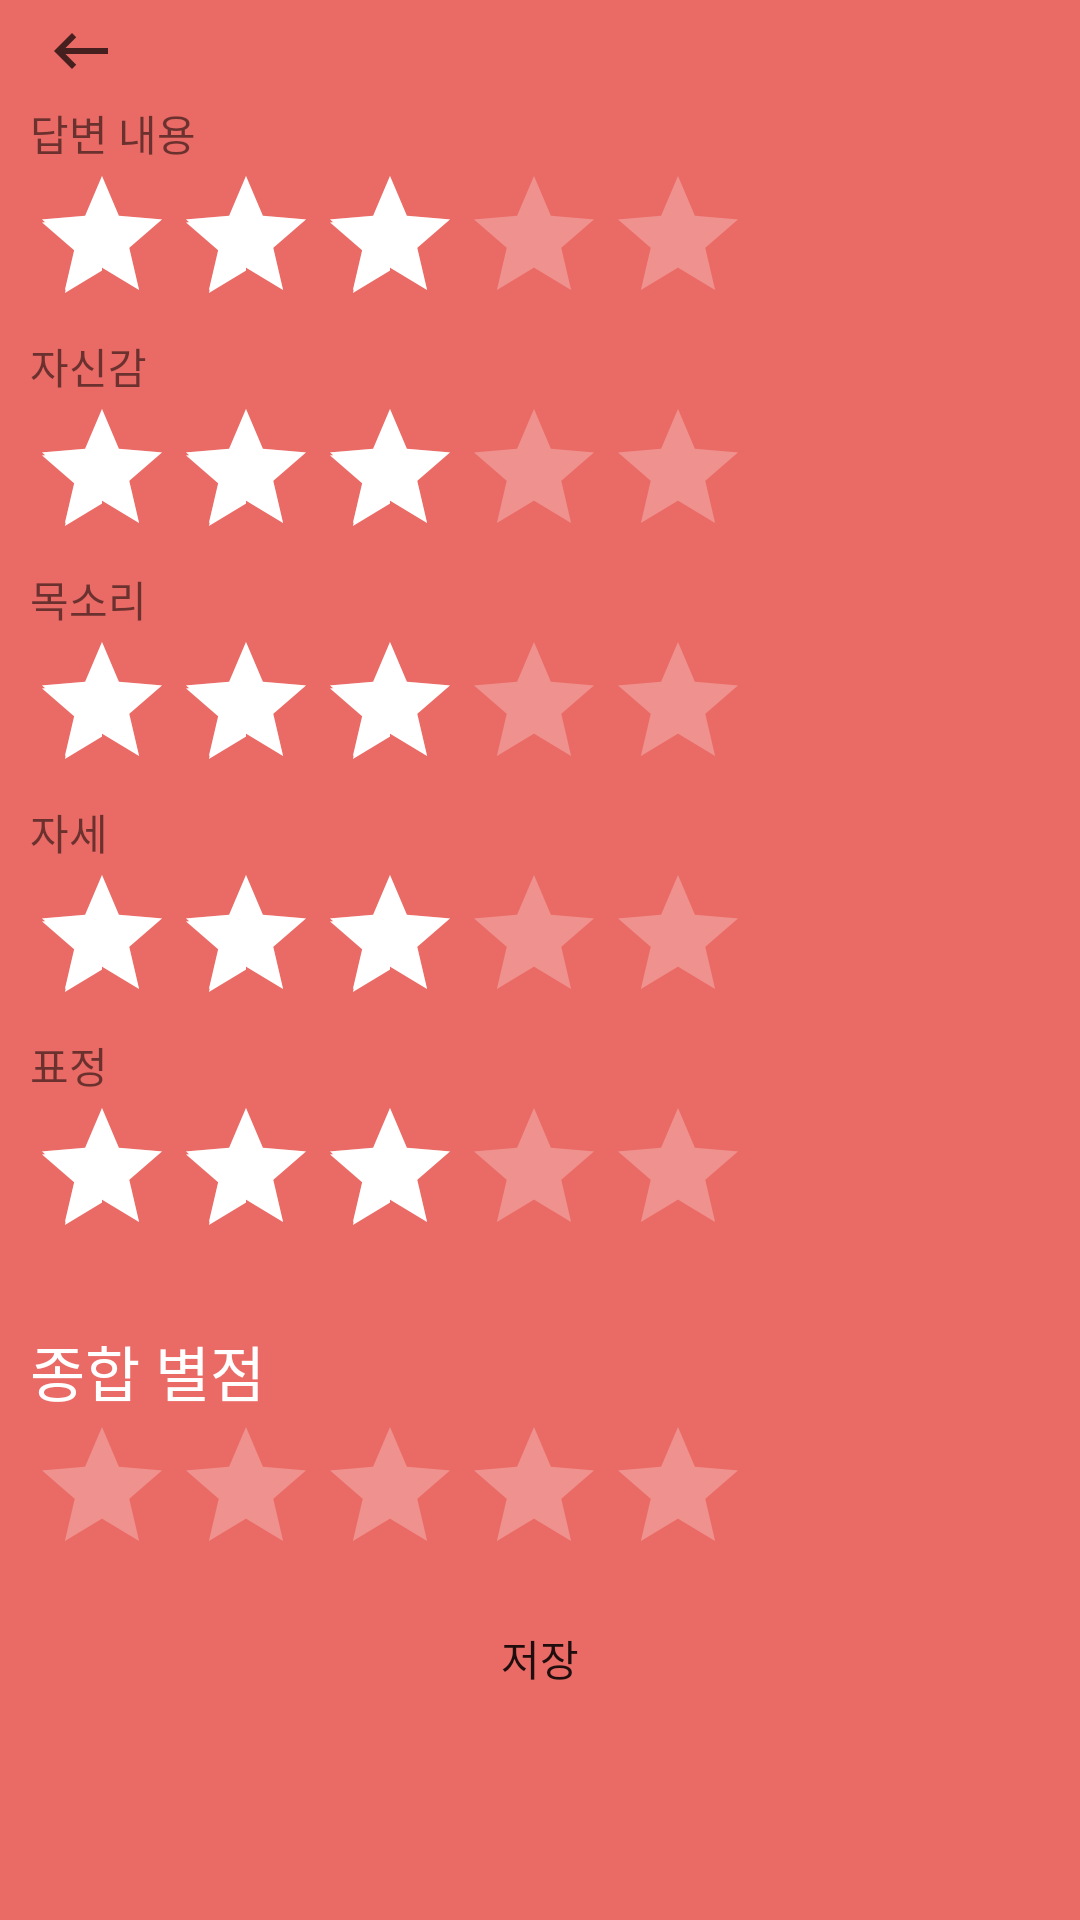

Locate icon controls on the screen. Image size 1080 × 1920, boxes as (x1,y1,x2,y2).
keyboard backspace: (54,33,108,69)
